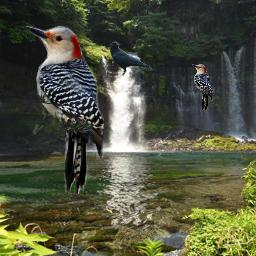Crow: (110, 41, 153, 76)
Woodpecker: (26, 26, 104, 194), (191, 64, 213, 111)
